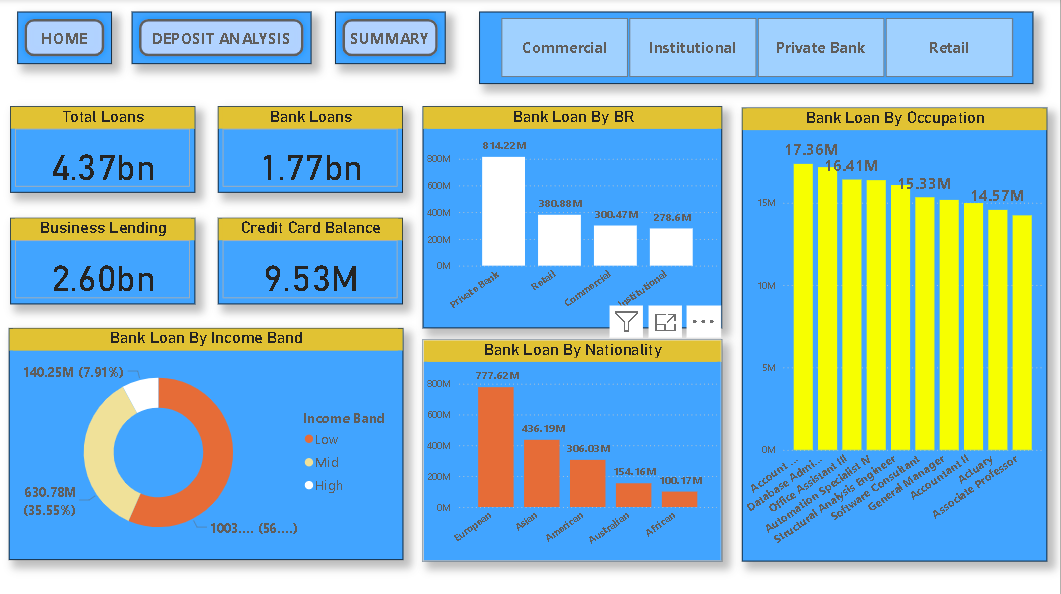

What the dashboard file says about the page in this screenshot:
{"tool":"powerbi","page":{"name":"LOAN ANALYSIS","canvas":[1280,720],"ordinal":1},"visuals":[{"type":"actionButton","box":[160.2,15.3,216.4,63],"z":1000},{"type":"actionButton","box":[22.2,15.3,114.2,63],"z":2000},{"type":"actionButton","box":[405.6,15.3,132.9,63],"z":3000},{"type":"cardVisual","title":"Total Loans ","fields":{"Data":["Banking.Total Loans"]},"box":[13.5,129.2,223.2,103.9],"z":4000},{"type":"cardVisual","title":"Bank Loans ","fields":{"Data":["Sum(Banking.Bank Loans)"]},"box":[264.1,129.5,223.2,103.9],"z":5000},{"type":"cardVisual","title":"Business Lending","fields":{"Data":["Sum(Banking.Business Lending)"]},"box":[13.5,263.8,223.2,103.9],"z":6000},{"type":"cardVisual","title":"Credit Card Balance ","fields":{"Data":["Sum(Banking.Credit Card Balance)"]},"box":[264.1,264.1,223.2,103.9],"z":7000},{"type":"donutChart","title":"Bank Loan By Income Band","fields":{"Y":["Sum(Banking.Bank Loans)"],"Category":["Banking.Income Band"]},"box":[11.9,397,475.4,279.5],"z":8000},{"type":"clusteredColumnChart","title":"Bank Loan By BR","fields":{"Category":["Banking.BRId"],"Y":["Sum(Banking.Bank Loans)"]},"box":[510.9,129.5,361.2,267.5],"z":9000},{"type":"clusteredColumnChart","title":"Bank Loan By Nationality","fields":{"Y":["Sum(Banking.Bank Loans)"],"Category":["Banking.Nationality"]},"box":[510.9,410.7,361.2,267.5],"z":10000},{"type":"clusteredColumnChart","title":"Bank Loan By Occupation","fields":{"Y":["Sum(Banking.Bank Loans)"],"Category":["Banking.Occupation"]},"box":[896.3,131.2,368.1,547],"z":11000},{"type":"slicer","fields":{"Values":["Banking.BRId"]},"box":[579.4,15.3,668,86.9],"z":12000}]}

Visuals, with their boxes in screenshot pixels (x1, y1, x2, y2), scaled from the page's 1280x720 canvas onto the 1061x594 screenshot:
actionButton: box(133, 13, 312, 65)
actionButton: box(18, 13, 113, 65)
actionButton: box(336, 13, 446, 65)
"Total Loans " cardVisual: box(11, 107, 196, 192)
"Bank Loans " cardVisual: box(219, 107, 404, 193)
"Business Lending" cardVisual: box(11, 218, 196, 303)
"Credit Card Balance " cardVisual: box(219, 218, 404, 304)
"Bank Loan By Income Band" donutChart: box(10, 328, 404, 558)
"Bank Loan By BR" clusteredColumnChart: box(423, 107, 723, 328)
"Bank Loan By Nationality" clusteredColumnChart: box(423, 339, 723, 560)
"Bank Loan By Occupation" clusteredColumnChart: box(743, 108, 1048, 560)
slicer - Banking.BRId: box(480, 13, 1034, 84)
